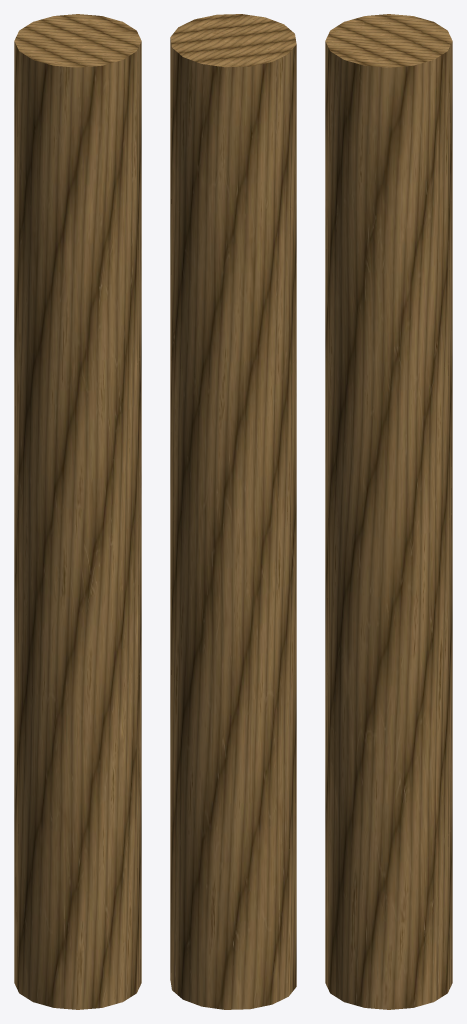
File: rope.fbx
3 views of the same model, side by side, from view 1: azimuth 90°, elevation 25°; view 2: azimuth 150°, elevation 25°; view 3: azimuth 270°, elevation 25° (orthographic).
Visible parts, largest first — view 1: Cylinder; view 2: Cylinder; view 3: Cylinder.
Part boxes in pixels (bbox=[...]): Cylinder: bbox=[14, 14, 141, 1009]; Cylinder: bbox=[170, 14, 296, 1009]; Cylinder: bbox=[325, 14, 452, 1009].
Size of the model in its own units: 275 by 2246 by 275.
1 material, 1 textured.
